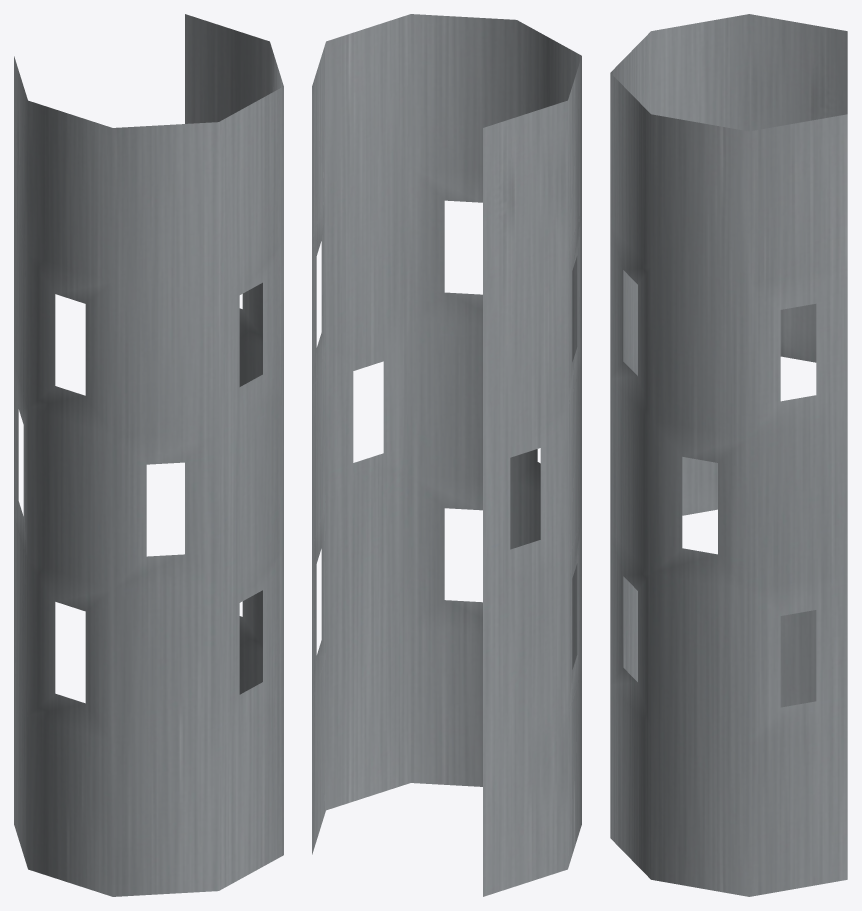
Rendered from Luminaria Parede.FBX.
3 renders of one model, left to right at view 1: azimuth 30°, elevation 25°; view 2: azimuth 150°, elevation 25°; view 3: azimuth 270°, elevation 25°, orthographic.
Parts seen in each view (by area): view 1: Luminaria Parede; view 2: Luminaria Parede; view 3: Luminaria Parede.
Boxes of the visible parts, <box> form: Luminaria Parede: <box>14,14,283,896</box>; Luminaria Parede: <box>312,14,581,896</box>; Luminaria Parede: <box>610,14,847,896</box>.
Size of the model in its own units: 14 by 42.53 by 11.95.
